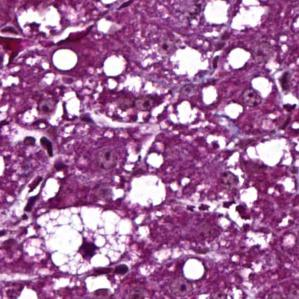ballooning: (34, 202, 136, 276)
